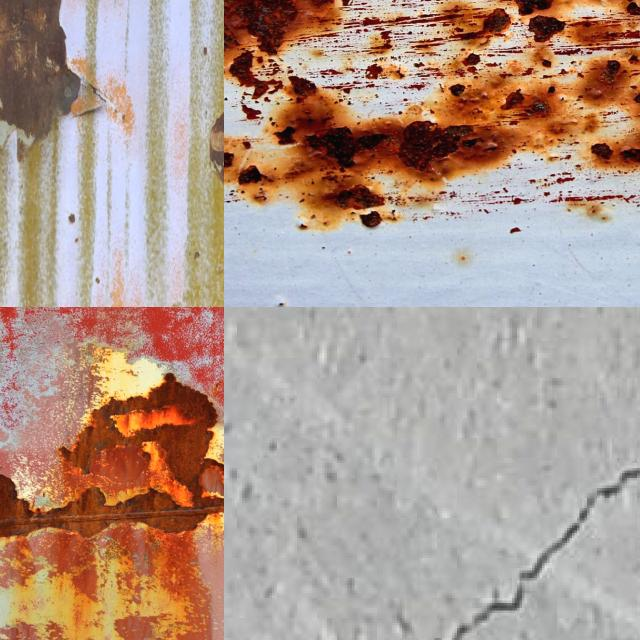Crack: (450, 466, 640, 640)
Pitting Corrosion: (224, 44, 640, 236), (230, 51, 268, 98), (529, 16, 565, 42), (484, 9, 510, 33), (513, 0, 553, 14)
Uniform Corrosion: (60, 374, 216, 494), (0, 474, 32, 520), (117, 490, 175, 512), (77, 488, 105, 514)
